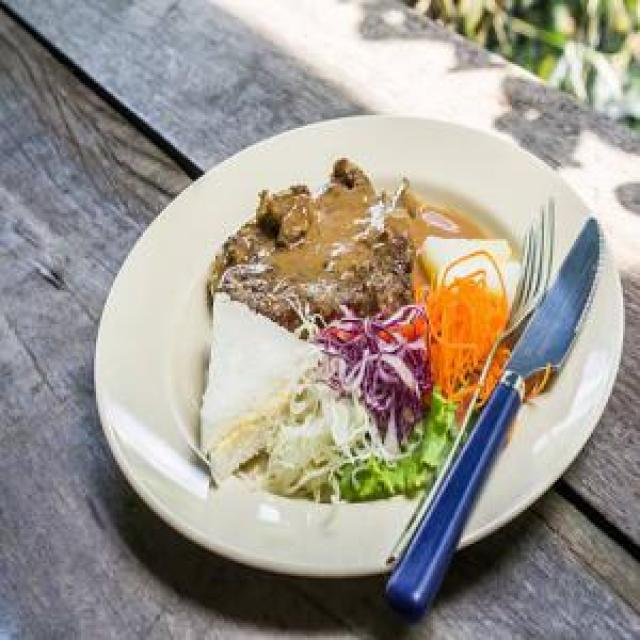knife: (384, 216, 605, 614)
